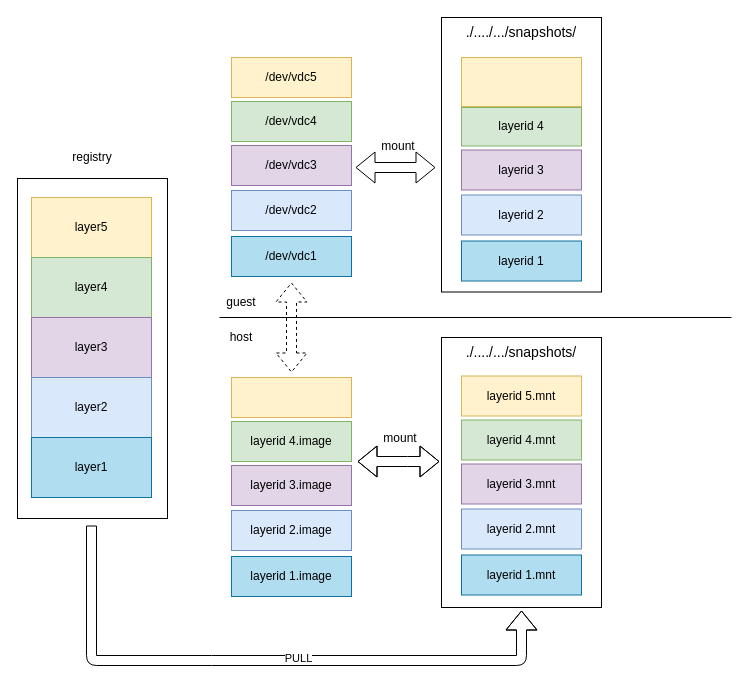
Some shapes in this 750 by 683 pixel diagram are drawn without their labels. The shapes that lost their labels are listed below. From the top down, each one's centre as x and y in pixels, then its label:
At pixel 521 81: "layerid 5".
At pixel 291 397: "layerid 5.image".
